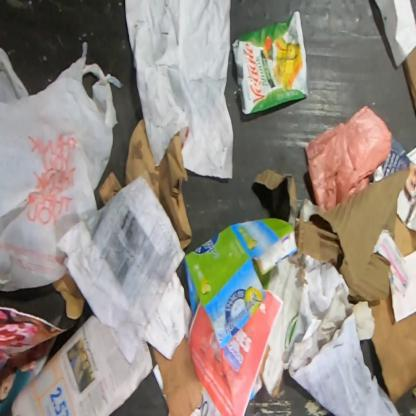cardboard: (254, 166, 416, 301), (184, 218, 296, 350), (98, 117, 192, 248), (368, 283, 416, 405), (152, 334, 202, 416), (402, 46, 415, 118)
soft_plastic: (0, 44, 118, 290), (304, 105, 390, 211), (232, 11, 309, 116)
